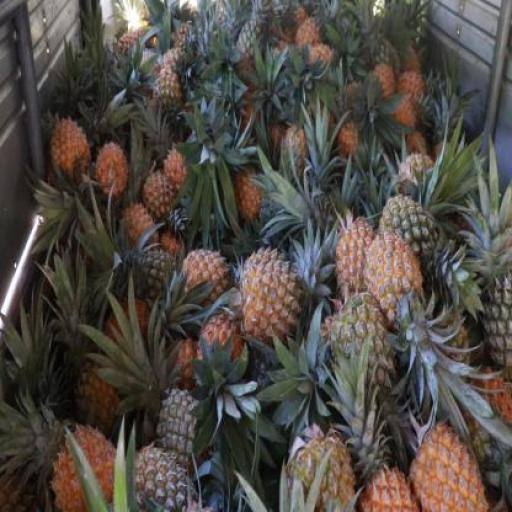------------------------------: (321, 308, 390, 408), (379, 200, 443, 298), (76, 360, 127, 435), (152, 67, 184, 126)
Pineapple - v8 v1: (408, 423, 486, 511), (52, 424, 129, 511), (362, 234, 426, 336), (238, 252, 301, 346), (332, 223, 382, 312), (194, 315, 242, 394), (50, 116, 89, 177), (184, 251, 226, 307), (94, 142, 124, 201), (141, 170, 179, 216)
